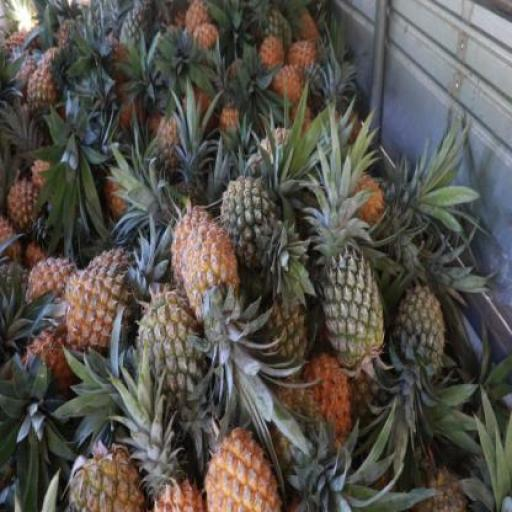------------------------------: (140, 289, 211, 399), (220, 178, 284, 276), (71, 443, 142, 512), (27, 66, 59, 124)
Pineapple - v8 v1: (64, 256, 133, 356), (198, 428, 277, 511), (185, 220, 245, 322), (172, 208, 221, 297), (28, 257, 74, 318), (6, 176, 44, 230)
